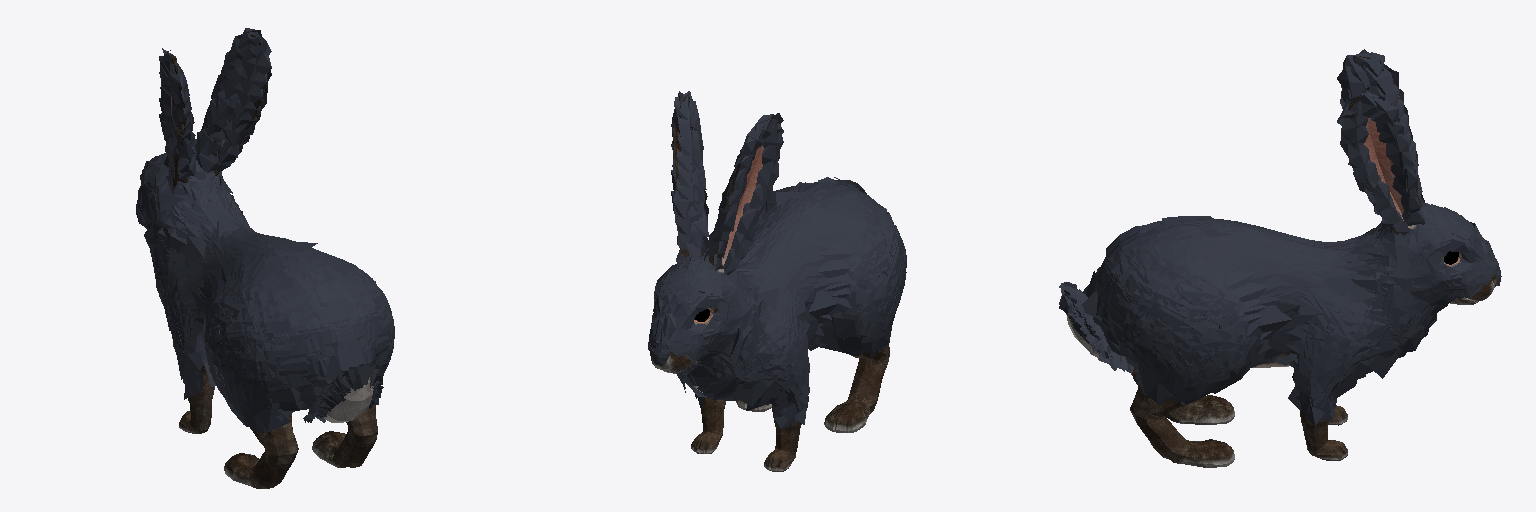
3 views of the same model, side by side, from view 1: azimuth 30°, elevation 25°; view 2: azimuth 150°, elevation 25°; view 3: azimuth 270°, elevation 25° (orthographic).
Parts seen in each view (by area): view 1: Object_Tex_Glass.jpg, Object_Tex_1.jpg; view 2: Object_Tex_Glass.jpg, Object_Tex_1.jpg; view 3: Object_Tex_Glass.jpg, Object_Tex_1.jpg.
Boxes of the visible parts, x1=… form: Object_Tex_Glass.jpg: x1=136, y1=28, x2=394, y2=433; Object_Tex_1.jpg: x1=168, y1=34, x2=377, y2=488; Object_Tex_Glass.jpg: x1=648, y1=91, x2=906, y2=428; Object_Tex_1.jpg: x1=650, y1=95, x2=889, y2=471; Object_Tex_Glass.jpg: x1=1059, y1=49, x2=1501, y2=425; Object_Tex_1.jpg: x1=1066, y1=56, x2=1496, y2=467.
Size of the model in its own units: 1.04 by 2.29 by 2.5.
Materials: 4 (2 with a texture image).